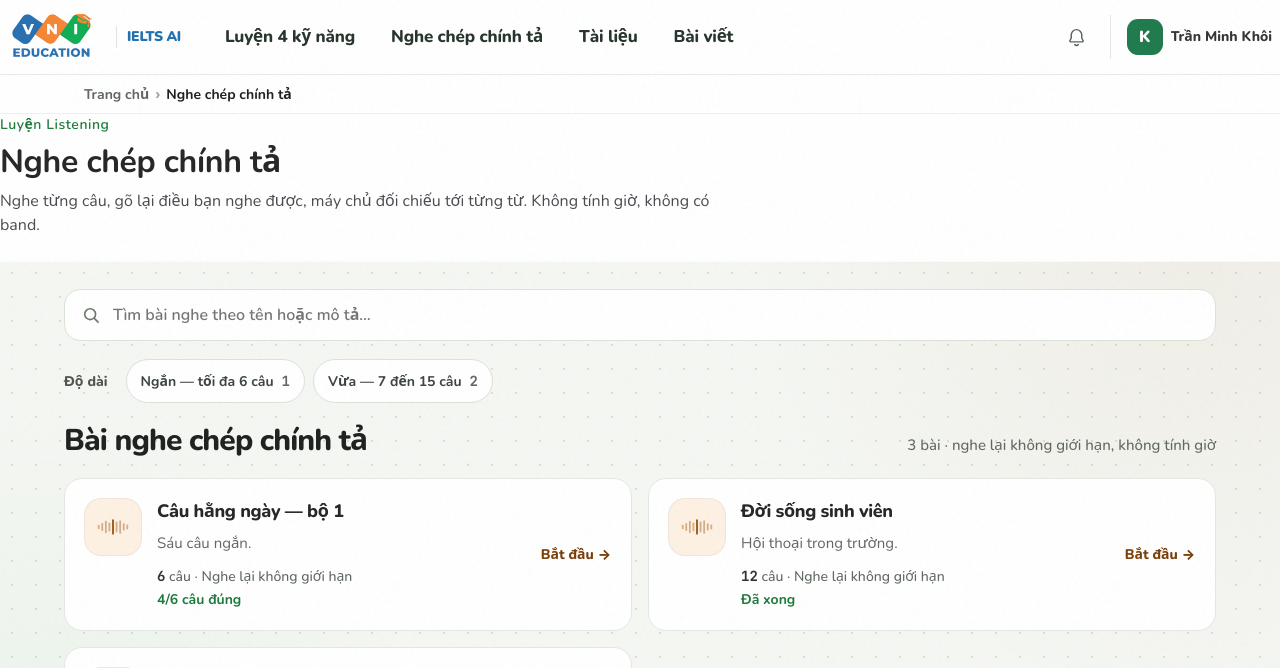
Test case: finds a set typed without its diacritics
Type "cau hang ngay" into the search field labelled "Tìm bài nghe theo tên hoặc mô tả…" at (656, 315), box [113,303,1199,328]
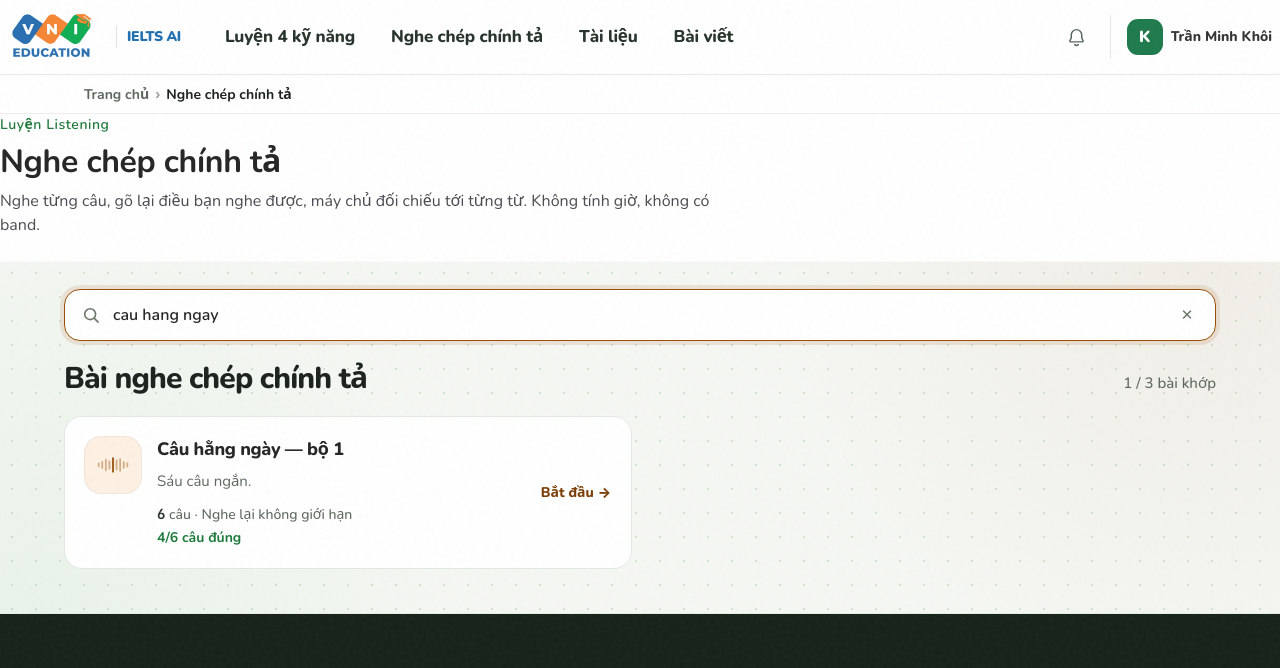
Expected: the link "Câu hằng ngày — bộ 1" is shown, [157,437,344,461]
Result: the link "Đời sống sinh viên" is gone
